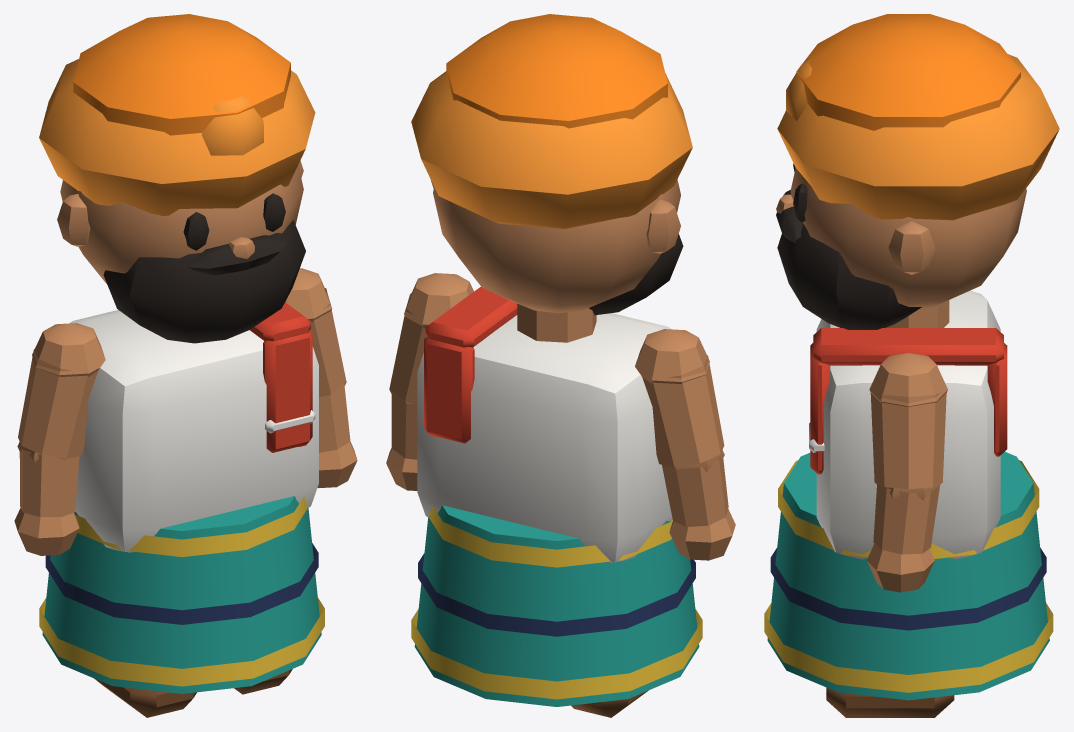
The model's file is trav_trucker.glb.
The picture shows the model from 3 angles, left to right: view 1: azimuth 30°, elevation 25°; view 2: azimuth 150°, elevation 25°; view 3: azimuth 270°, elevation 25°; orthographic projection.
Parts seen in each view (by area): view 1: body, head, arm_r, arm_l, leg_r; view 2: body, head, arm_r, arm_l, leg_r; view 3: body, head, arm_l, leg_l.
Boxes of the visible parts, left/top/right/bottom form: body: left=39, top=302, right=324, bottom=693; head: left=39, top=14, right=315, bottom=343; arm_r: left=14, top=323, right=105, bottom=555; arm_l: left=285, top=268, right=357, bottom=487; leg_r: left=94, top=678, right=196, bottom=717; body: left=411, top=287, right=702, bottom=706; head: left=411, top=14, right=692, bottom=315; arm_r: left=635, top=329, right=735, bottom=560; arm_l: left=386, top=273, right=473, bottom=490; leg_r: left=571, top=690, right=648, bottom=717; body: left=764, top=290, right=1053, bottom=700; head: left=776, top=14, right=1059, bottom=329; arm_l: left=866, top=352, right=947, bottom=592; leg_l: left=826, top=687, right=954, bottom=717.
Bounding box in the file's own units: 0.6458 × 1.19 × 0.486.
Materials: 1 (1 with a texture image).
